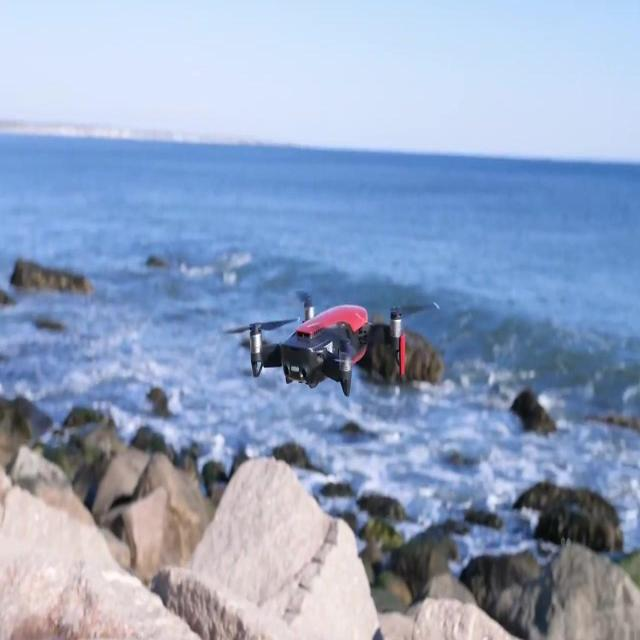drone: (247, 291, 419, 399)
